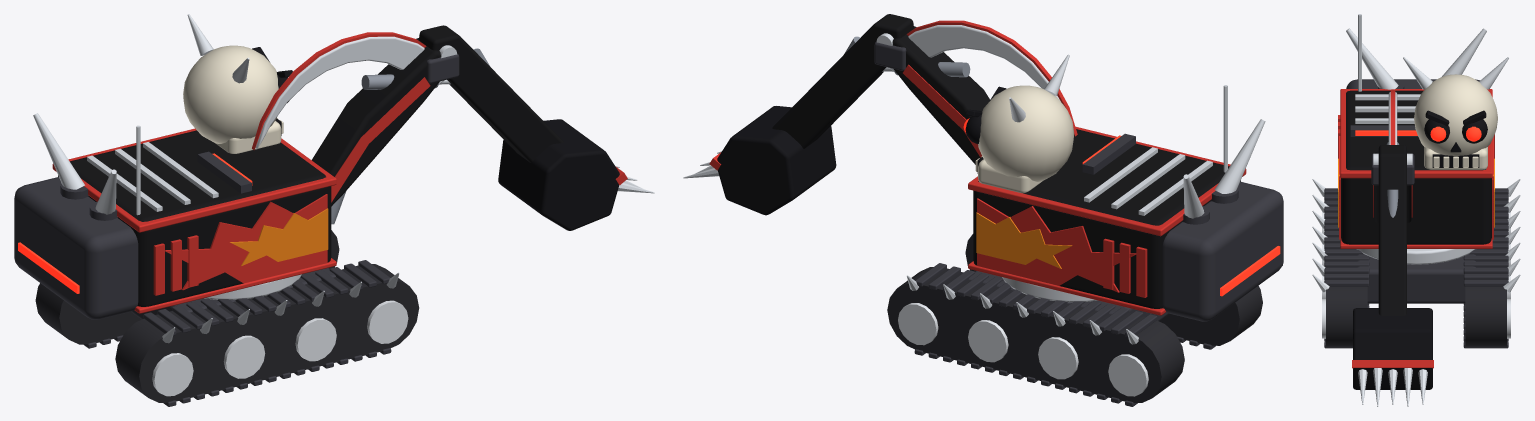
Rendered from vehicle_rock_digger_t3.glb.
3 renders of one model, left to right at view 1: azimuth 30°, elevation 25°; view 2: azimuth 150°, elevation 25°; view 3: azimuth 270°, elevation 25°, orthographic. The views are drawn at different scales.
Parts seen in each view (by area): view 1: House, Track.Belt, Counterweight, Bucket.Shell, Skull.Cranium, Stick.Beam, Boom.Beam, Flame.Lick0, Track.Pad, Boom.Scythe, House.Band, Track.Belt.001 (+20 smaller); view 2: Track.Belt.001, House, Counterweight, Bucket.Shell, Skull.Cranium, Stick.Beam, Flame.Lick0.001, Track.Pad.002, Boom.Beam, Track.Belt, Boom.Scythe, Flame.Lick1.001 (+20 smaller); view 3: House, Bucket.Shell, Stick.Beam, Skull.Cranium, Carriage, Track.Belt.001, Track.Pad, Track.Pad.002, Track.Belt, House.Band, House.Rib, Slew (+30 smaller).
Boxes of the visible parts, left/top/right/bottom form: House: left=58, top=130, right=331, bottom=306; Track.Belt: left=115, top=264, right=419, bottom=402; Counterweight: left=14, top=177, right=138, bottom=319; Bucket.Shell: left=498, top=119, right=619, bottom=230; Skull.Cranium: left=183, top=45, right=278, bottom=143; Stick.Beam: left=419, top=25, right=563, bottom=162; Boom.Beam: left=312, top=38, right=440, bottom=206; Flame.Lick0: left=165, top=194, right=327, bottom=290; Track.Pad: left=143, top=260, right=390, bottom=335; Boom.Scythe: left=255, top=36, right=443, bottom=148; House.Band: left=52, top=128, right=336, bottom=232; Track.Belt.001: left=35, top=230, right=339, bottom=344; Track.Belt.001: left=887, top=267, right=1184, bottom=402; House: left=973, top=129, right=1240, bottom=308; Counterweight: left=1162, top=181, right=1283, bottom=321; Bucket.Shell: left=717, top=106, right=836, bottom=215; Skull.Cranium: left=978, top=85, right=1073, bottom=181; Stick.Beam: left=772, top=14, right=913, bottom=148; Flame.Lick0.001: left=977, top=198, right=1136, bottom=292; Track.Pad.002: left=915, top=263, right=1157, bottom=336; Boom.Beam: left=892, top=26, right=989, bottom=164; Track.Belt: left=965, top=234, right=1262, bottom=345; Boom.Scythe: left=889, top=25, right=1060, bottom=101; Flame.Lick1.001: left=976, top=212, right=1072, bottom=268; House: left=1341, top=90, right=1491, bottom=244; Bucket.Shell: left=1353, top=308, right=1432, bottom=389; Stick.Beam: left=1378, top=145, right=1406, bottom=315; Skull.Cranium: left=1414, top=74, right=1497, bottom=156; Carriage: left=1357, top=254, right=1475, bottom=303; Track.Belt.001: left=1465, top=286, right=1506, bottom=346; Track.Pad: left=1324, top=188, right=1369, bottom=286; Track.Pad.002: left=1463, top=188, right=1508, bottom=286; Track.Belt: left=1326, top=286, right=1367, bottom=346; House.Band: left=1340, top=89, right=1492, bottom=178; House.Rib: left=1355, top=94, right=1420, bottom=123; Slew: left=1357, top=249, right=1475, bottom=264.
Size of the model in its own units: 6.17 by 2.94 by 2.21.
